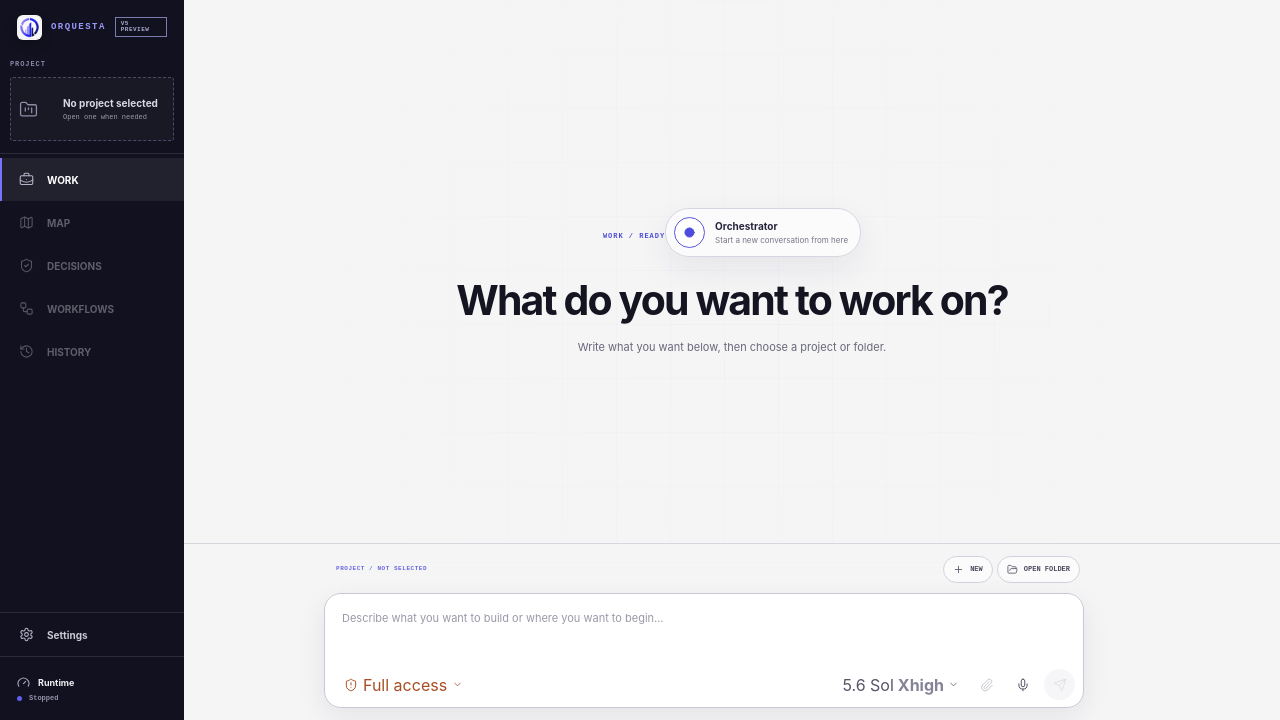
Test: Desktop Next work-first shell › keeps browser preview visually identical to the packaged-mode React surface for the same state
Click the button named "VOICE INPUT". click: [1022, 684]
box: x1=1007 y1=669 x2=1038 y2=700
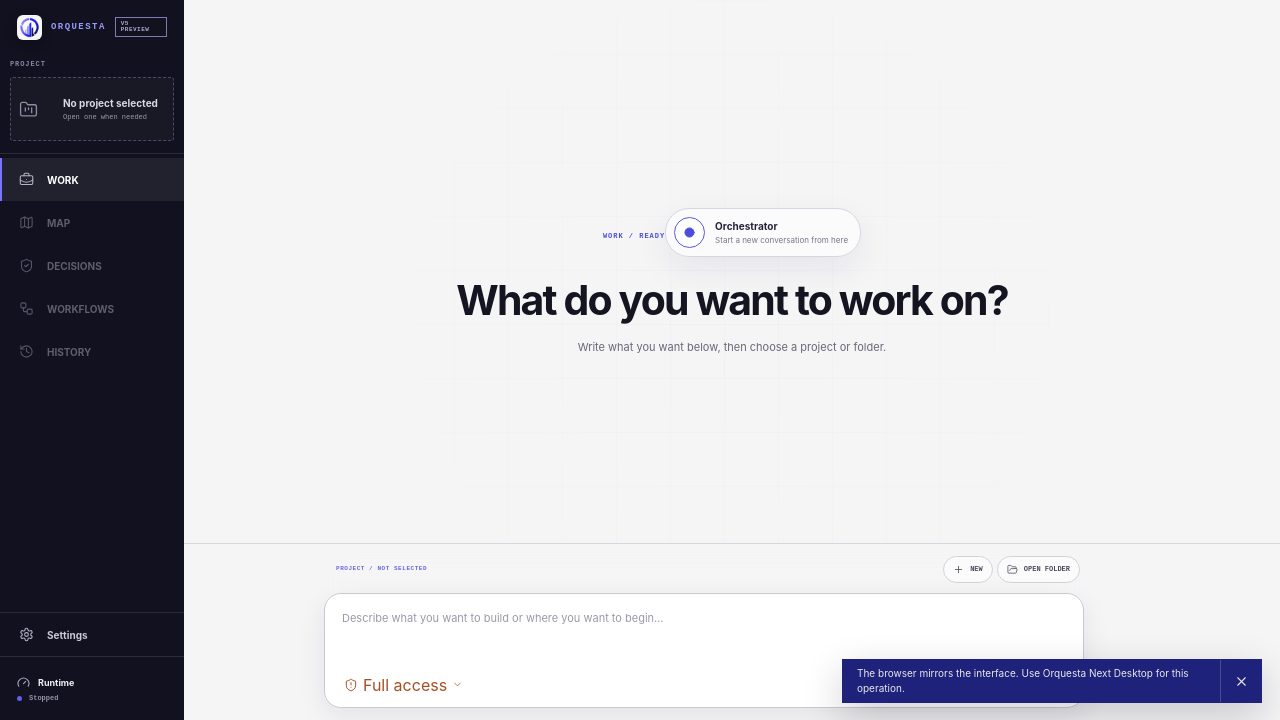
Result: the message shows "Use Orquesta Next Desktop for this operation." at x1=857 y1=667 x2=1189 y2=694
